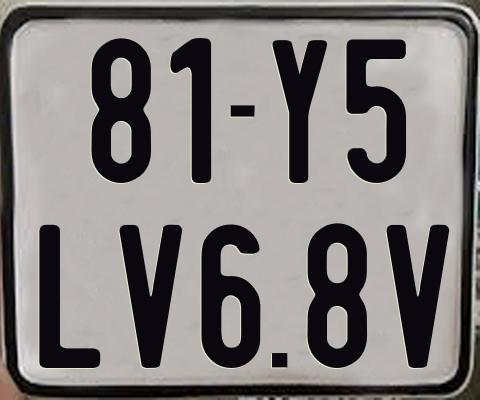1: (168, 38, 209, 185)
5: (343, 39, 408, 189)
6: (199, 222, 260, 367)
8: (305, 220, 369, 371), (89, 36, 150, 186)
L: (36, 222, 101, 368)
V: (116, 223, 184, 372), (383, 225, 450, 369)
Y: (271, 38, 331, 185)
